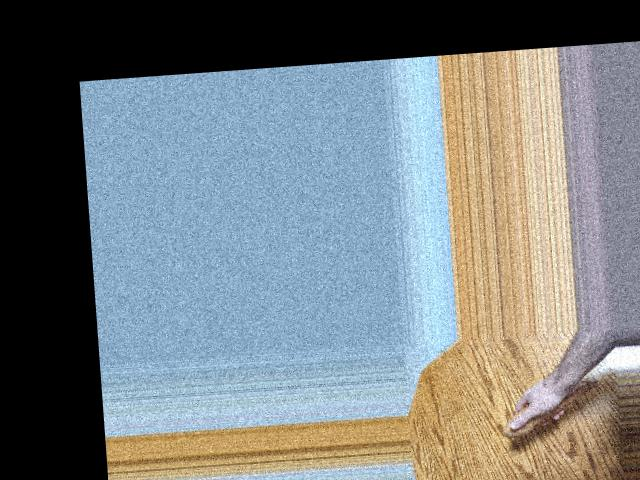sweet_potato: (504, 374, 603, 435)
